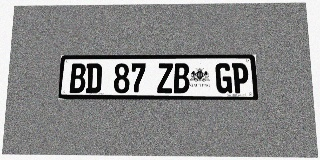7: (130, 63, 146, 93)
8: (114, 63, 130, 93)
B: (69, 63, 86, 93), (173, 63, 190, 93)
D: (85, 63, 102, 93)
G: (215, 63, 232, 93)
P: (232, 63, 249, 93)
Z: (157, 63, 173, 93)
